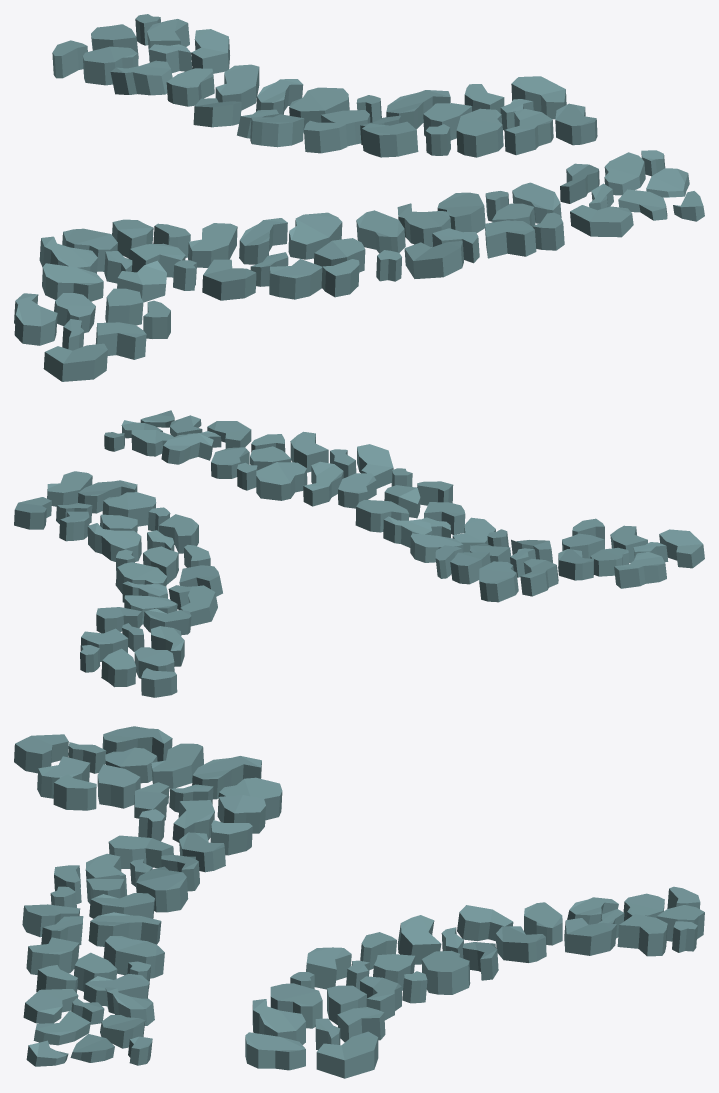
File: fbTrack5.fbx
The picture shows the model from 3 angles, top to bottom: view 1: azimuth 30°, elevation 25°; view 2: azimuth 150°, elevation 25°; view 3: azimuth 270°, elevation 25°; orthographic projection. The views are drawn at different scales.
Parts seen in each view (by area): view 1: polySurface68; view 2: polySurface68; view 3: polySurface68.
Part boxes in pixels (x1,y1,x2,y2): polySurface68: (14, 14, 704, 381); polySurface68: (14, 410, 704, 697); polySurface68: (14, 726, 704, 1078).
Bounding box in the file's own units: 4.96 × 0.3263 × 4.42.
